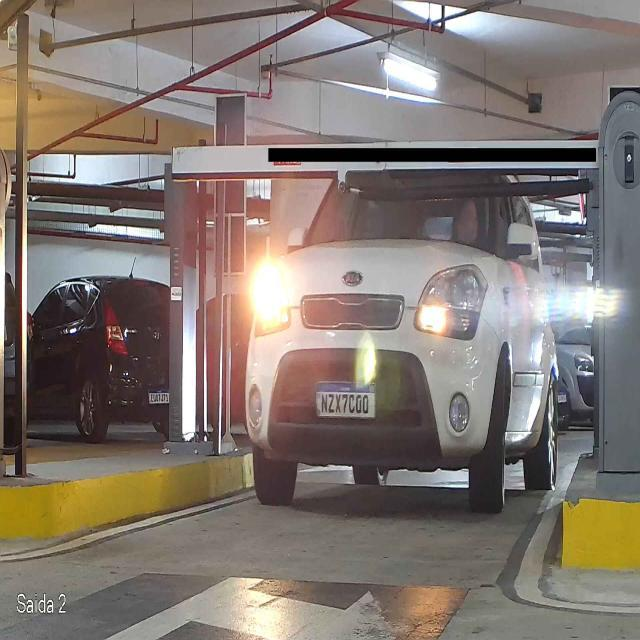mercosul_plate: (313, 380, 377, 420)
